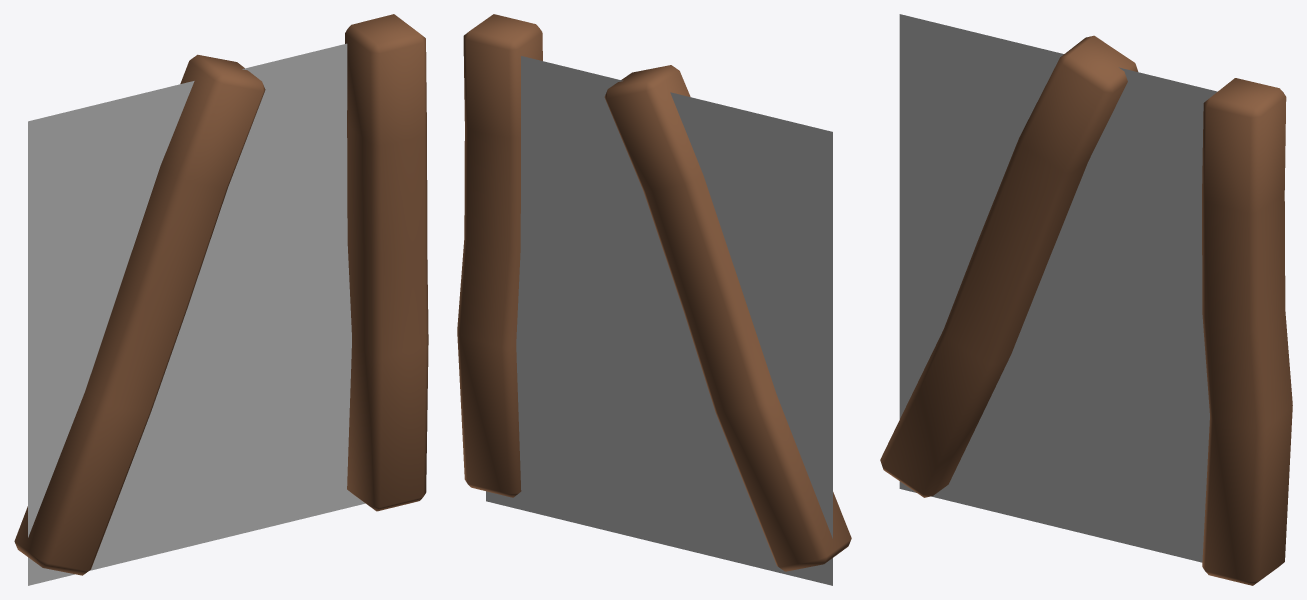
File: house plaster wall 4.fbx
3 renders of one model, left to right at view 1: azimuth 30°, elevation 25°; view 2: azimuth 150°, elevation 25°; view 3: azimuth 330°, elevation 25°, orthographic. The views are drawn at different scales.
Parts seen in each view (by area): view 1: Cube.044; view 2: Cube.044; view 3: Cube.044.
Boxes of the visible parts, x1,y1,x2,y2 form: Cube.044: (14,14,428,585); Cube.044: (457,14,851,585); Cube.044: (880,14,1292,585).
Bounding box in the file's own units: 216 × 258 × 40.95.
